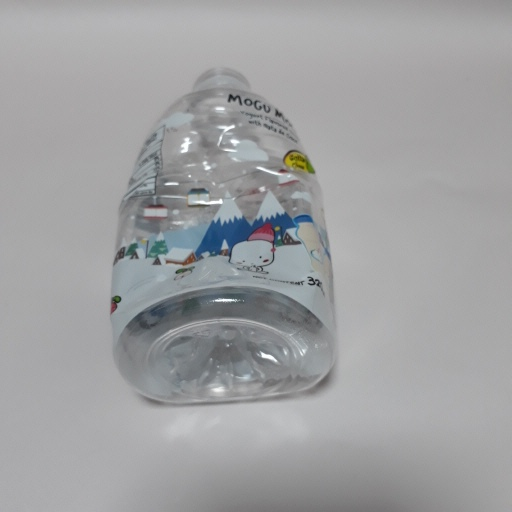Plastic_0: (110, 67, 339, 406)
